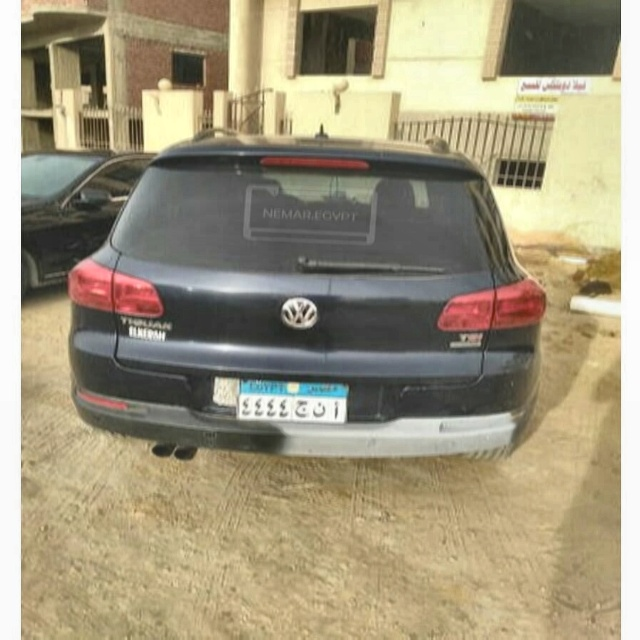License Plate: (235, 378, 350, 424)
